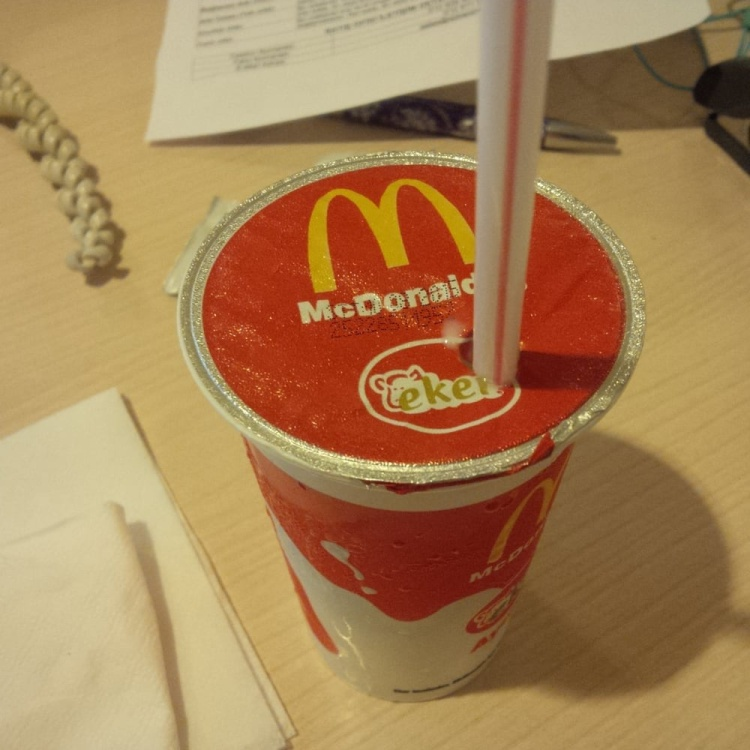mcdonalds: (306, 174, 481, 295)
